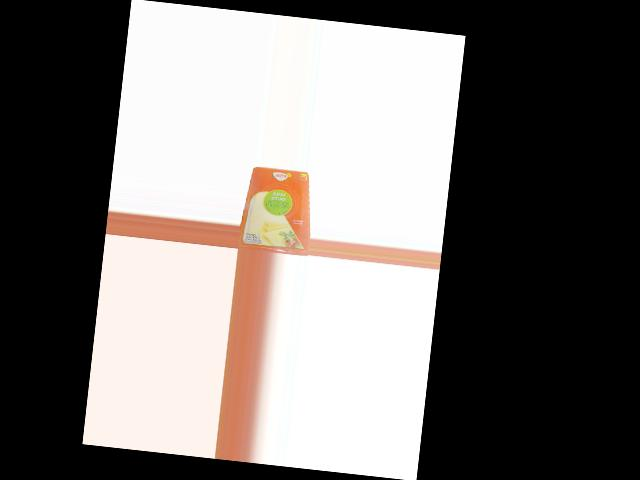cheese: (239, 166, 318, 256)
